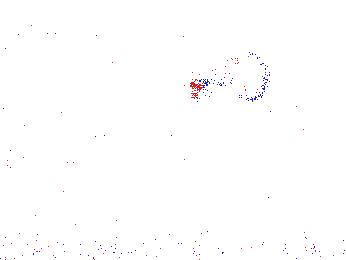flame jellyfish: (189, 49, 271, 103), (279, 171, 346, 221), (219, 159, 273, 207)
